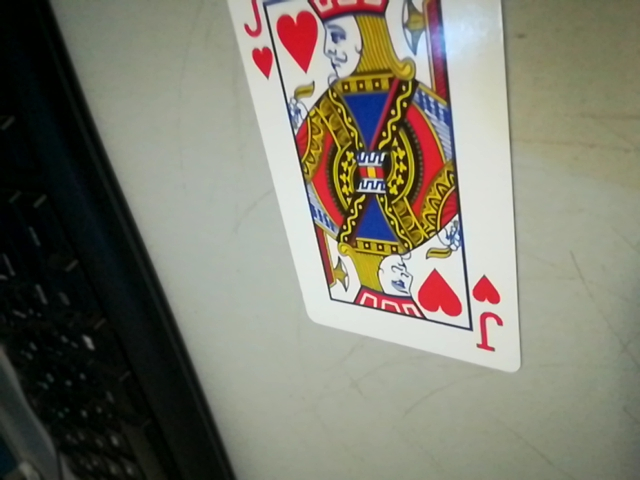hx j: (465, 268, 515, 359)
